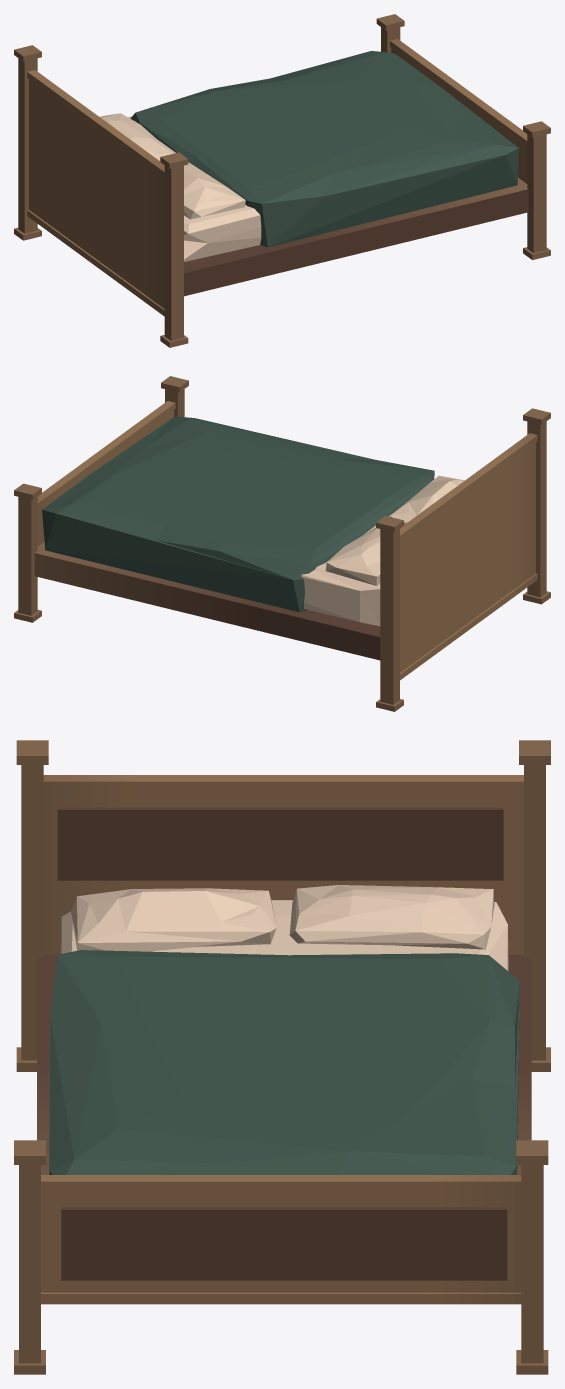
Rendered from BedKing.glb.
The picture shows the model from 3 angles, top to bottom: view 1: azimuth 30°, elevation 25°; view 2: azimuth 150°, elevation 25°; view 3: azimuth 270°, elevation 25°; orthographic projection. The views are drawn at different scales.
Parts seen in each view (by area): view 1: Bed King; view 2: Bed King; view 3: Bed King.
Boxes of the visible parts, <box> form: Bed King: <box>14,14,550,347</box>; Bed King: <box>14,376,550,711</box>; Bed King: <box>14,740,550,1374</box>.
Size of what is drawn, in the model's own units: 2.63 by 1.22 by 1.88.
1 material, 1 textured.
